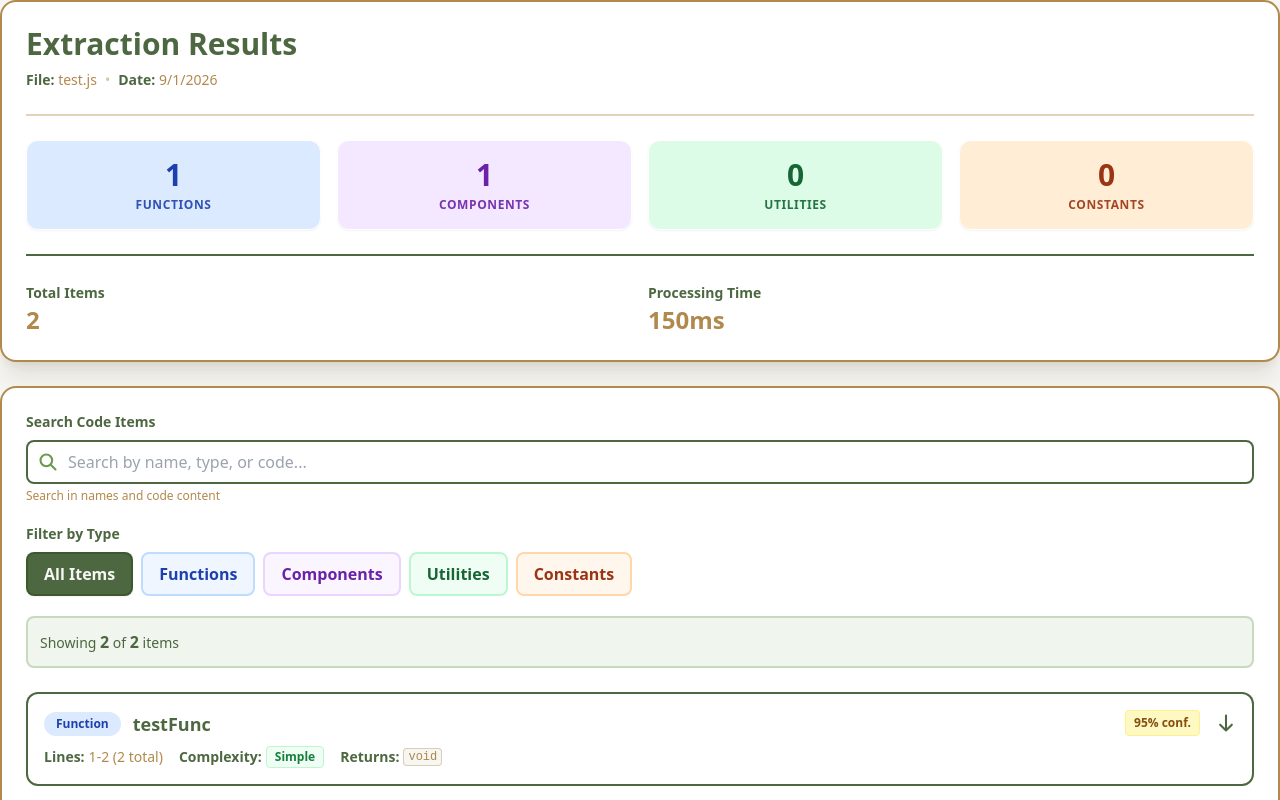
Test: ResultsDisplay › should search code items
Type "TestComponent" into the field with placeholder "Search by name, type, or code..." at (640, 462), box top-left (26, 440), bottom-right (1254, 484)
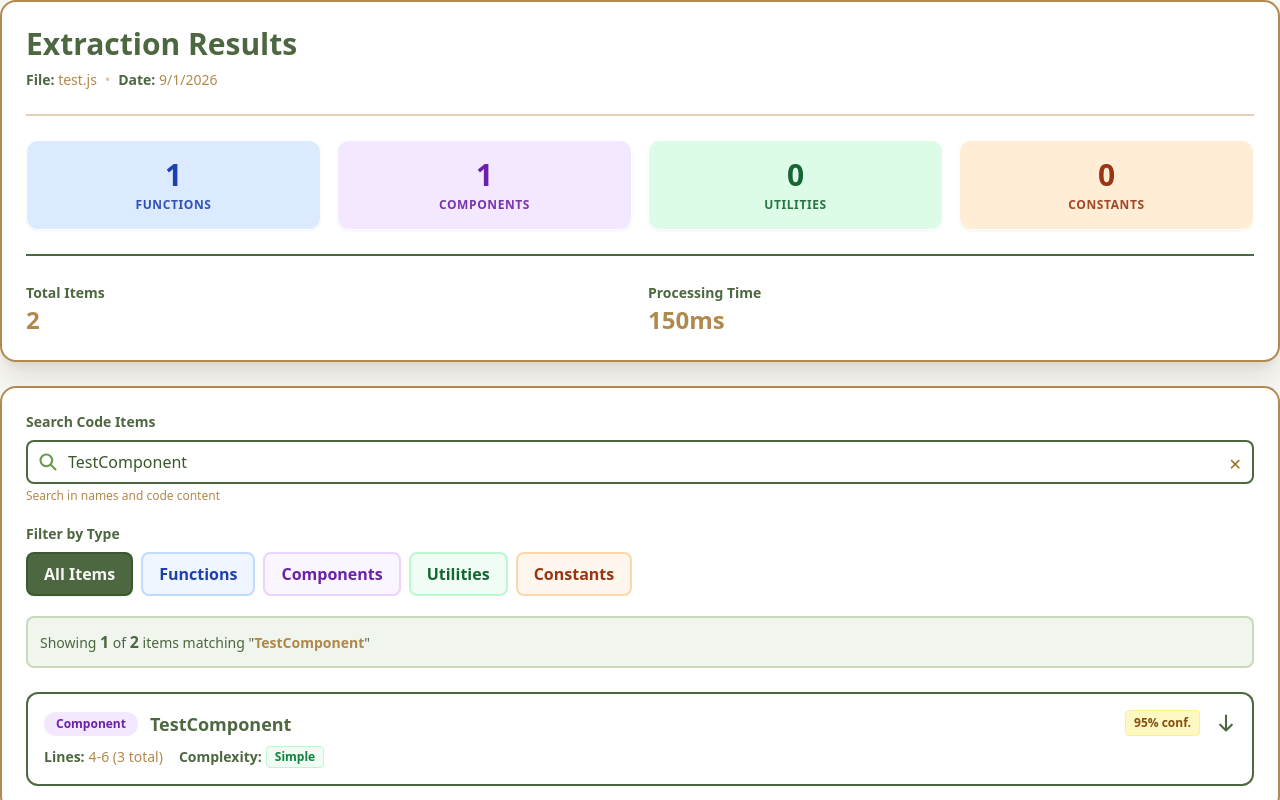
Result: the text "TestComponent" is shown at top-left (254, 633), bottom-right (364, 652)
